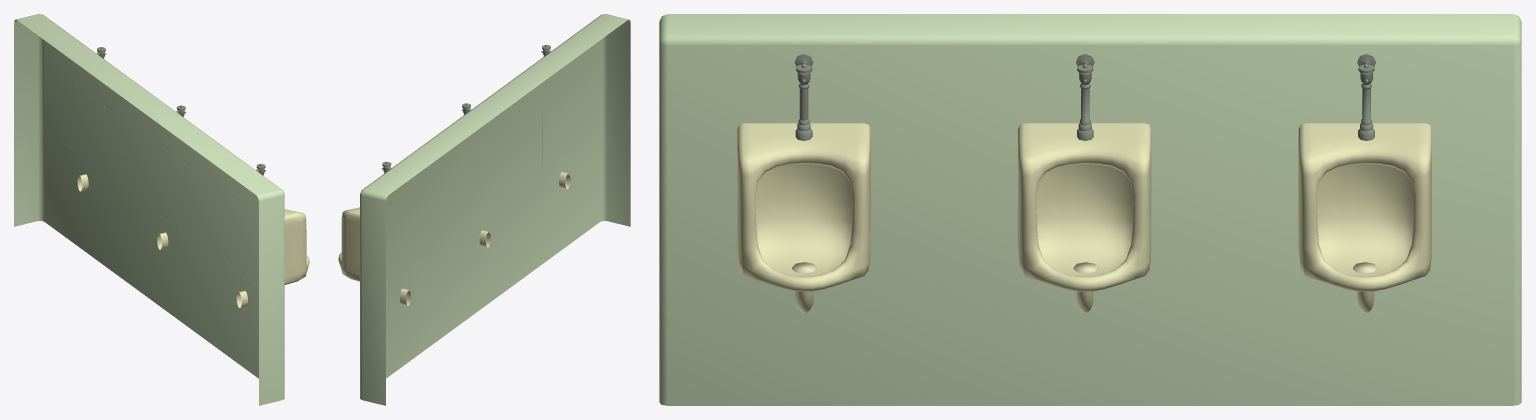
The model's file is Toilet.fbx.
3 views of the same model, side by side, from view 1: azimuth 30°, elevation 25°; view 2: azimuth 150°, elevation 25°; view 3: azimuth 270°, elevation 25° (orthographic). The views are drawn at different scales.
Parts seen in each view (by area): view 1: Room Big.001, Standing Closet, Pipe; view 2: Room Big.001, Standing Closet, Pipe; view 3: Room Big.001, Standing Closet, Pipe 2, Pipe.
Boxes of the visible parts, bbox=[...] form: Room Big.001: bbox=[14, 14, 284, 405]; Standing Closet: bbox=[104, 106, 309, 284]; Pipe: bbox=[77, 174, 247, 307]; Room Big.001: bbox=[360, 14, 630, 405]; Standing Closet: bbox=[338, 111, 542, 281]; Pipe: bbox=[400, 172, 570, 305]; Room Big.001: bbox=[659, 14, 1521, 405]; Standing Closet: bbox=[737, 123, 1431, 291]; Pipe 2: bbox=[794, 53, 1375, 140]; Pipe: bbox=[795, 291, 1374, 313].
Size of the model in its own units: 40.42 by 90.21 by 192.
